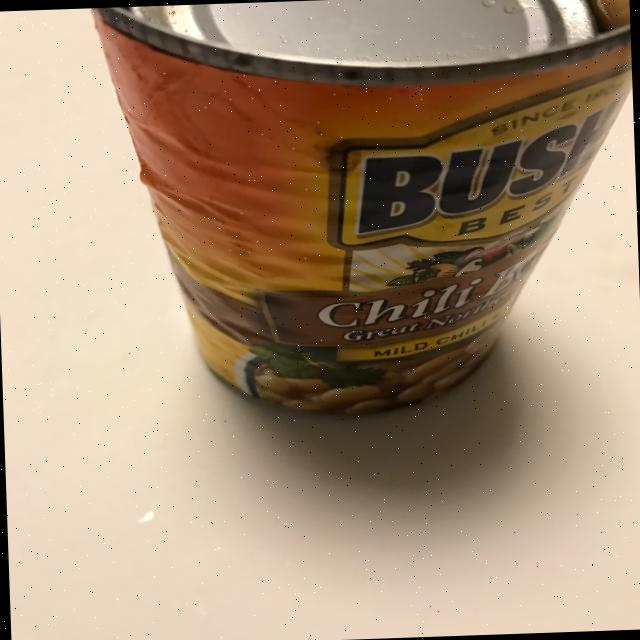metal: (89, 0, 640, 424)
